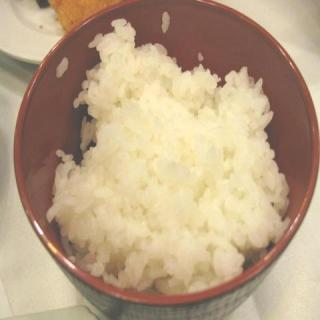Nasi: (45, 17, 293, 296)
